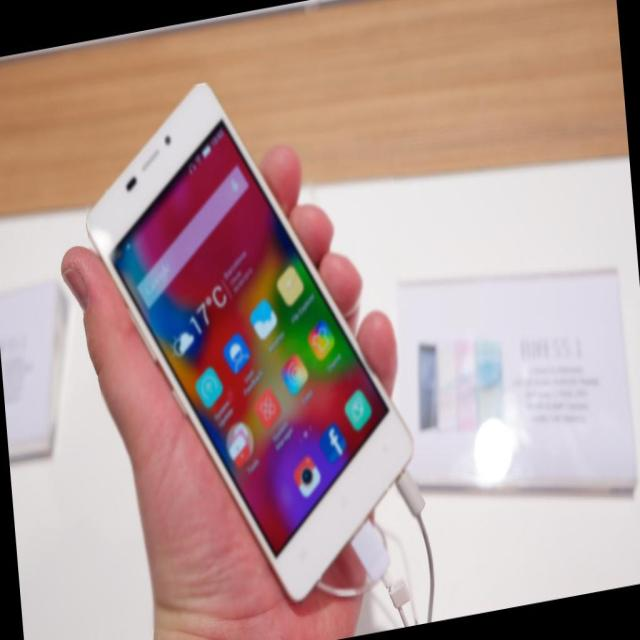handphone: (88, 93, 400, 584)
